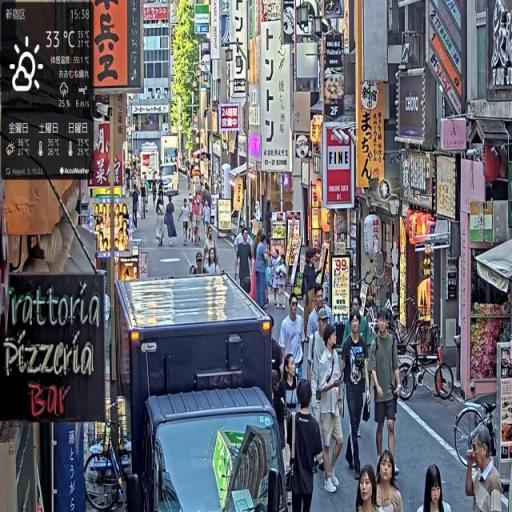person: (370, 308, 403, 474), (316, 318, 346, 499), (341, 312, 370, 477), (293, 379, 328, 512), (467, 425, 507, 512), (279, 298, 306, 382), (376, 450, 405, 512), (419, 466, 453, 512), (253, 231, 271, 311), (236, 226, 255, 299), (355, 466, 382, 512), (165, 198, 178, 247), (140, 176, 150, 222)
